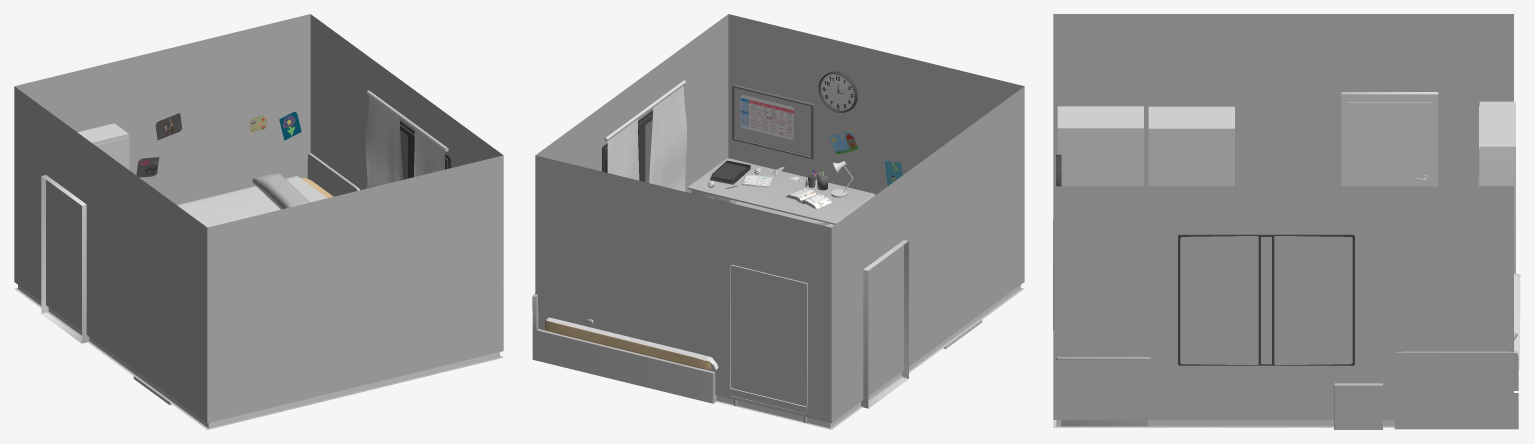
File: TheKID_Cinemática_Habitación.fbx
3 renders of one model, left to right at view 1: azimuth 30°, elevation 25°; view 2: azimuth 150°, elevation 25°; view 3: azimuth 270°, elevation 25°, orthographic. The views are drawn at different scales.
Visible parts, largest first — view 1: Paredes, PinGroup.001, Bed, Zócalos, Puerta, Armario, Bed.003, Bed.002, Suelo, Ventana, Dibujo.003; view 2: Paredes, Bed.002, Escritorio.002, PinGroup.001, Corcho, Puerta, Zócalos, Horario, Bed.001, Cylinder.001, Bed, Ventana (+3 smaller); view 3: Paredes, Puerta, Estanería.001, Estanería, Bed.002, Armario, mesita de noche, Ventana, Zócalos, Escritorio.002, Bed.
Boxes of the visible parts, x1=… form: Paredes: x1=14, y1=14, x2=503, y2=423; PinGroup.001: x1=365, y1=96, x2=445, y2=188; Bed: x1=177, y1=176, x2=327, y2=227; Zócalos: x1=18, y1=285, x2=499, y2=428; Puerta: x1=41, y1=175, x2=89, y2=343; Armario: x1=78, y1=123, x2=129, y2=169; Bed.003: x1=252, y1=173, x2=309, y2=209; Bed.002: x1=307, y1=153, x2=359, y2=196; Suelo: x1=15, y1=288, x2=503, y2=429; Ventana: x1=399, y1=120, x2=451, y2=178; Dibujo.003: x1=155, y1=113, x2=182, y2=140; Paredes: x1=535, y1=14, x2=1024, y2=423; Bed.002: x1=532, y1=293, x2=716, y2=403; Escritorio.002: x1=687, y1=158, x2=875, y2=227; PinGroup.001: x1=607, y1=85, x2=686, y2=191; Corcho: x1=732, y1=84, x2=814, y2=159; Puerta: x1=861, y1=240, x2=908, y2=408; Zócalos: x1=716, y1=285, x2=1023, y2=429; Horario: x1=740, y1=94, x2=793, y2=140; Bed.001: x1=545, y1=319, x2=710, y2=369; Cylinder.001: x1=820, y1=74, x2=854, y2=110; Bed: x1=546, y1=317, x2=718, y2=369; Ventana: x1=602, y1=110, x2=652, y2=181; Paredes: x1=1053, y1=14, x2=1513, y2=419; Puerta: x1=1341, y1=92, x2=1438, y2=186; Estanería.001: x1=1148, y1=106, x2=1234, y2=186; Estanería: x1=1057, y1=106, x2=1143, y2=186; Bed.002: x1=1394, y1=350, x2=1518, y2=429; Armario: x1=1479, y1=101, x2=1515, y2=273; mesita de noche: x1=1334, y1=383, x2=1382, y2=429; Ventana: x1=1178, y1=234, x2=1354, y2=365; Zócalos: x1=1053, y1=420, x2=1394, y2=427; Escritorio.002: x1=1056, y1=357, x2=1150, y2=426; Bed: x1=1514, y1=273, x2=1520, y2=369.
Bounding box in the file's own units: 510 × 332 × 567.
